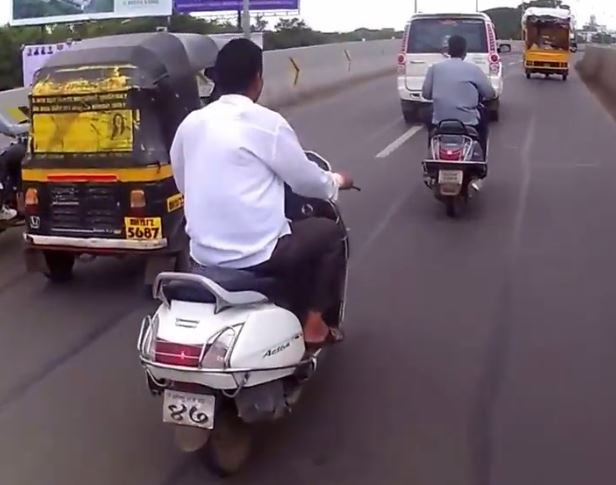autorickshaw: (15, 33, 215, 285)
car: (392, 9, 512, 117)
